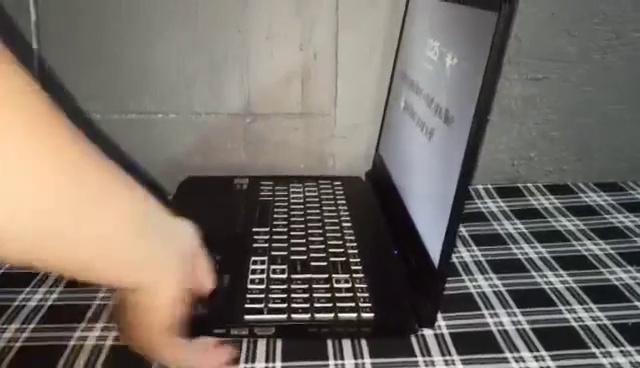laptop: (151, 1, 518, 340)
